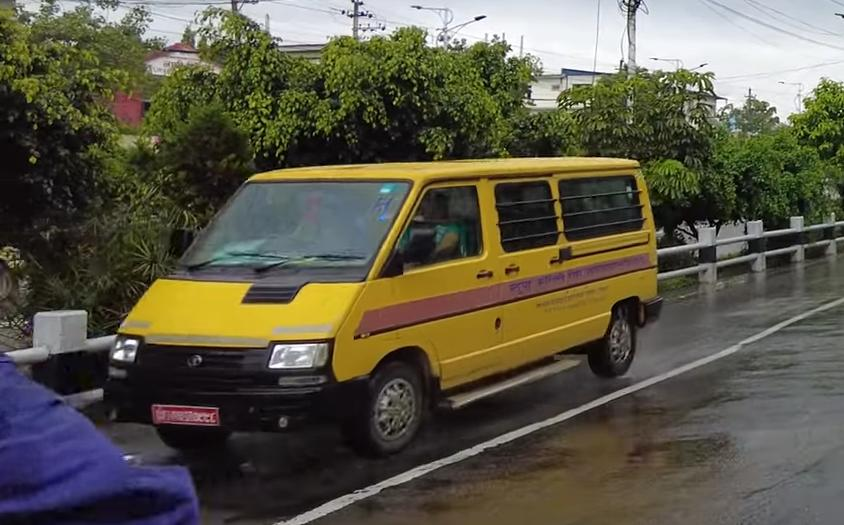school_bus: (85, 152, 664, 461)
